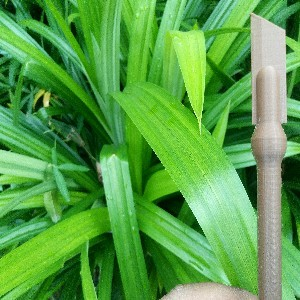cutter: (250, 10, 288, 300)
